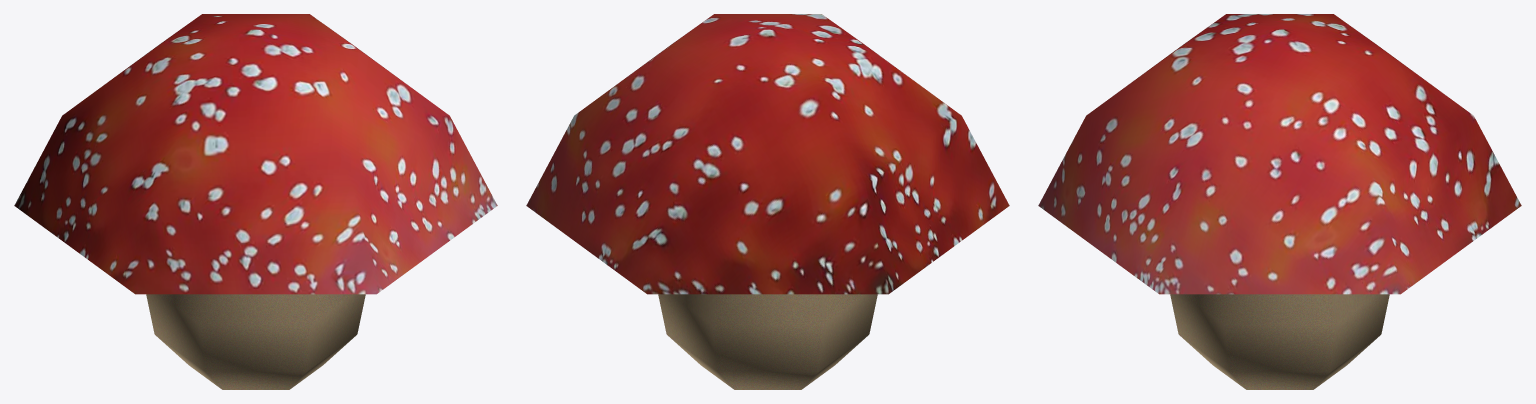
The model's file is FRM0210024.fbx.
3 views of the same model, side by side, from view 1: azimuth 30°, elevation 25°; view 2: azimuth 150°, elevation 25°; view 3: azimuth 270°, elevation 25° (orthographic).
Parts seen in each view (by area): view 1: smFRM0210024; view 2: smFRM0210024; view 3: smFRM0210024.
Part boxes in pixels (box(x1,y1,x2,y2)): smFRM0210024: box(14, 14, 497, 389); smFRM0210024: box(526, 14, 1009, 389); smFRM0210024: box(1038, 14, 1521, 389).
Size of the model in its own units: 33.92 by 29.9 by 39.17.
1 material, 1 textured.
